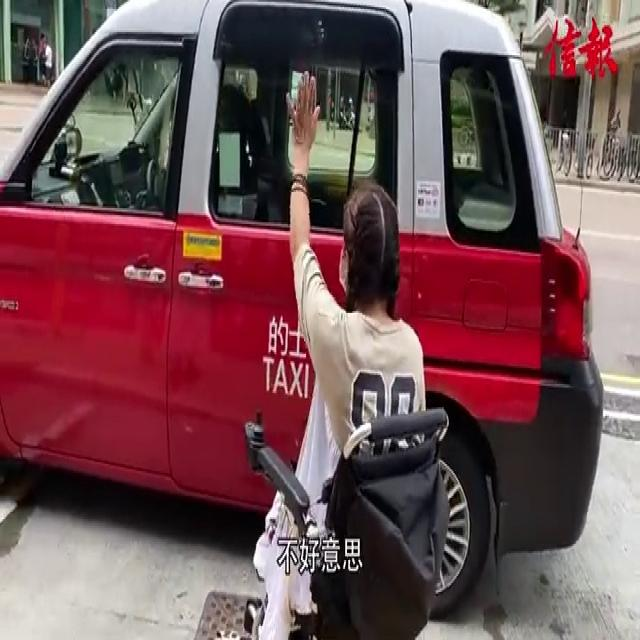wheelchairs: (238, 368, 457, 640)
